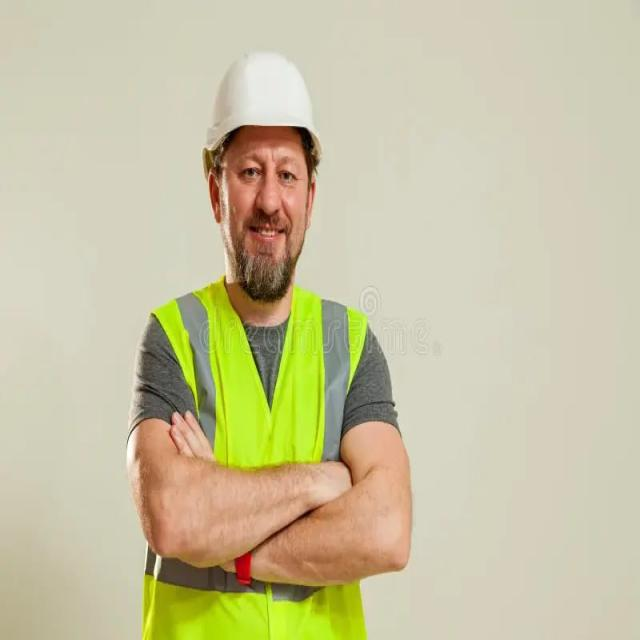helmet: (182, 44, 342, 150)
human: (115, 22, 416, 640)
vest: (154, 283, 368, 640)
